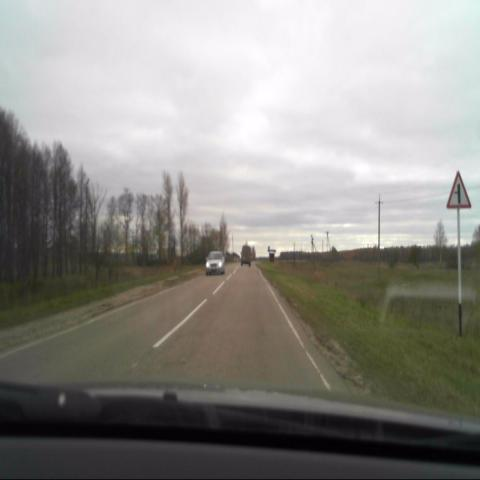2_3_3: (447, 170, 471, 209)
